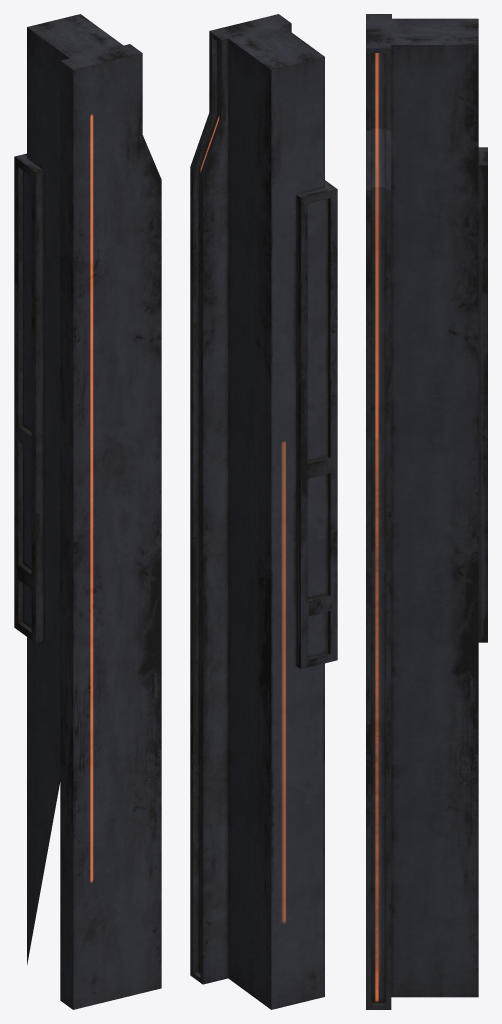
File: Scifi-Building_02.gltf
The picture shows the model from 3 angles, left to right: view 1: azimuth 30°, elevation 25°; view 2: azimuth 210°, elevation 25°; view 3: azimuth 270°, elevation 25°; orthographic projection.
Visible parts, largest first — view 1: Mesh; view 2: Mesh; view 3: Mesh.
Part boxes in pixels (x1,y1,x2,y2): Mesh: [14, 14, 161, 1009]; Mesh: [190, 14, 337, 1009]; Mesh: [366, 14, 487, 1009].
Bounding box in the file's own units: 7.69 × 78.15 × 9.05.
1 material, 1 textured.
